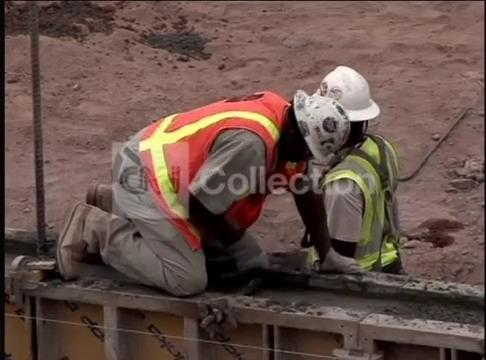Gloves: (316, 250, 368, 276)
Helmet: (294, 91, 339, 167), (316, 65, 374, 118)
Person: (59, 71, 334, 297), (292, 64, 403, 275)
Safety Boot: (58, 206, 91, 280)
Safety Vest: (142, 104, 293, 197), (331, 148, 402, 275)
